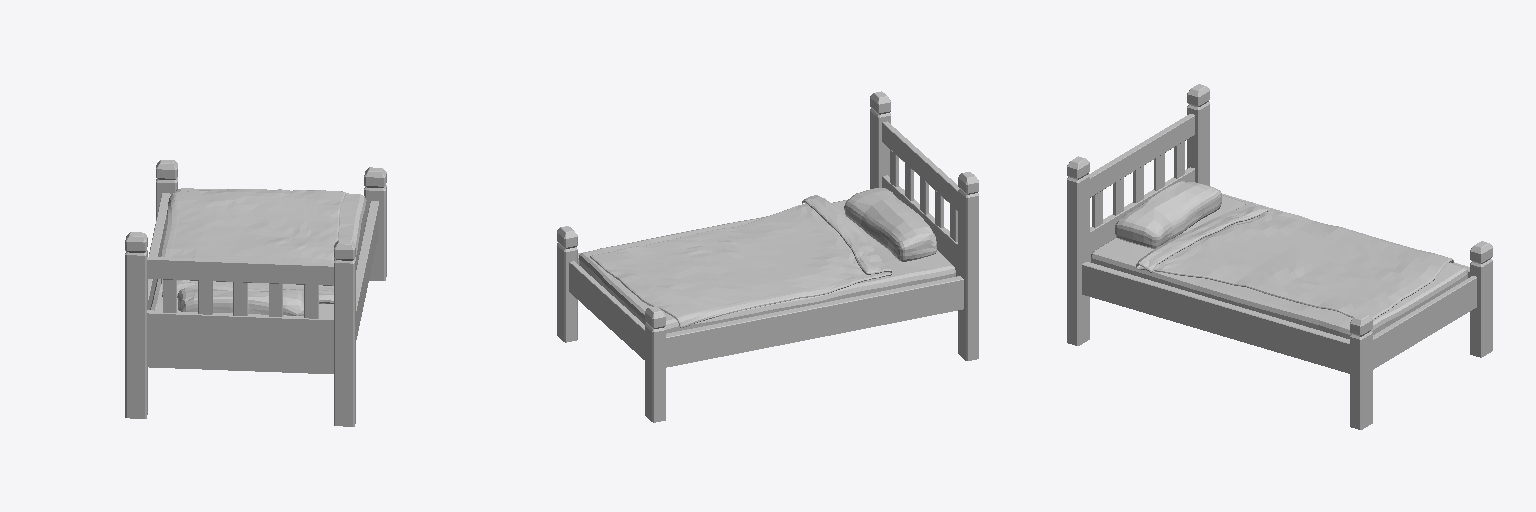
File: bed.obj
3 renders of one model, left to right at view 1: azimuth 30°, elevation 25°; view 2: azimuth 150°, elevation 25°; view 3: azimuth 270°, elevation 25°, orthographic.
Visible parts, largest first — view 1: Bed; view 2: Bed; view 3: Bed.
Part boxes in pixels (x1,y1,x2,y2): Bed: (125, 160, 386, 426); Bed: (557, 91, 978, 422); Bed: (1067, 84, 1492, 429).
Size of the model in its own units: 0.6725 by 0.341 by 0.7254.